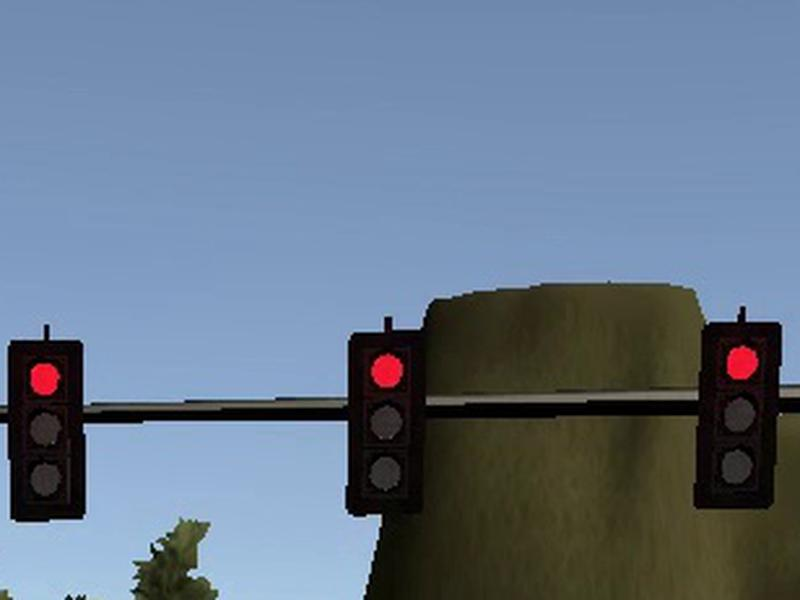Red: (691, 321, 782, 508), (343, 330, 428, 517), (6, 339, 87, 523)
